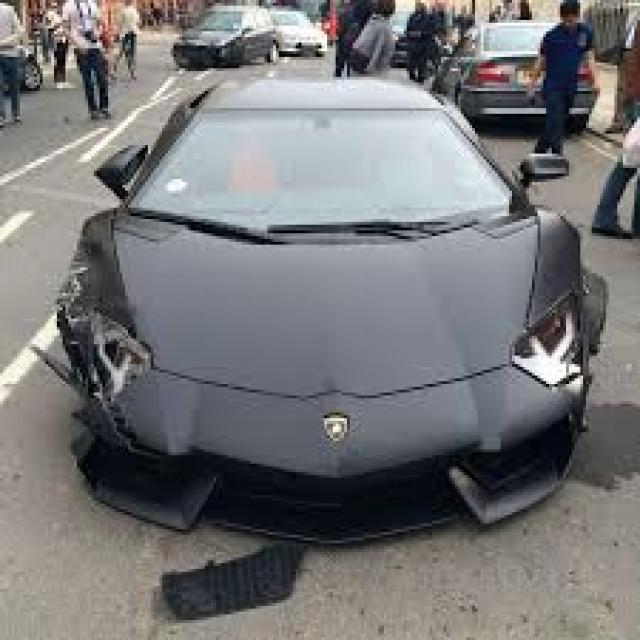moderate: (25, 198, 232, 542)
